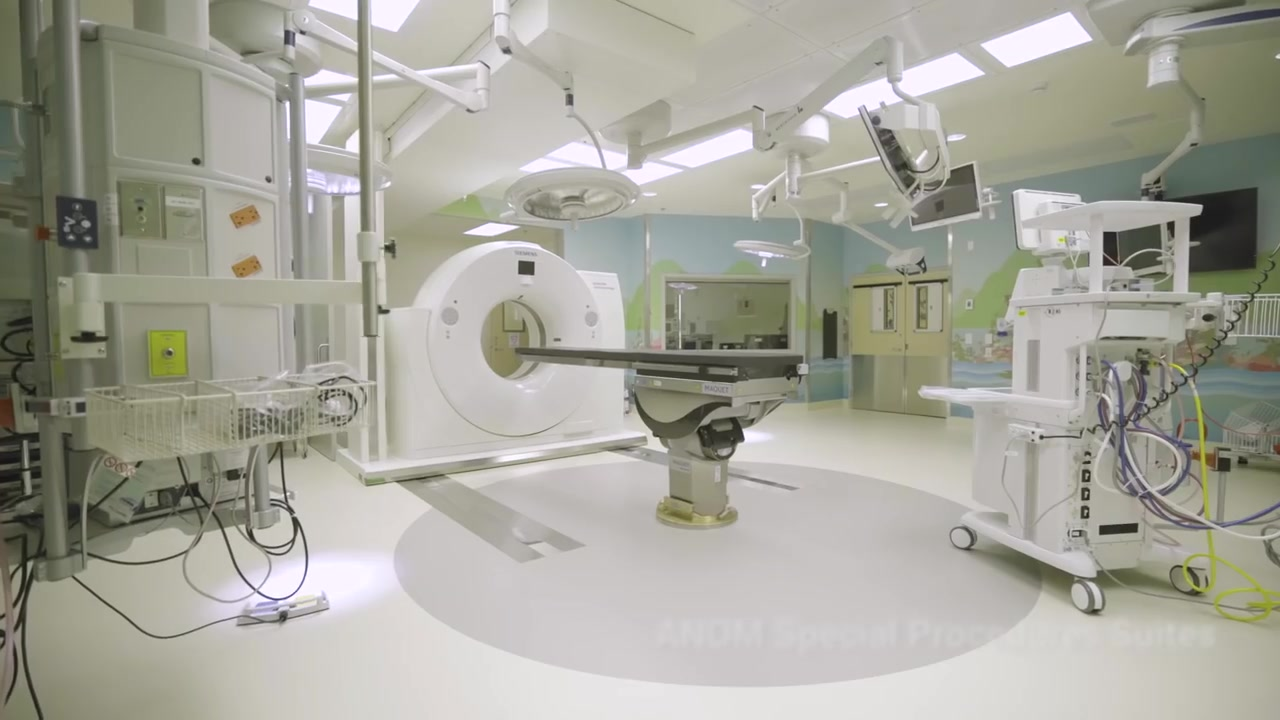TV: (1163, 186, 1258, 273)
bedside_monitor: (856, 102, 926, 207), (909, 161, 984, 232)
surgical_light: (503, 167, 641, 231), (306, 141, 392, 214), (732, 239, 810, 267)
ventilator: (917, 187, 1205, 614)
xray_bed: (514, 347, 809, 530)
xray_machine: (386, 241, 625, 459)
